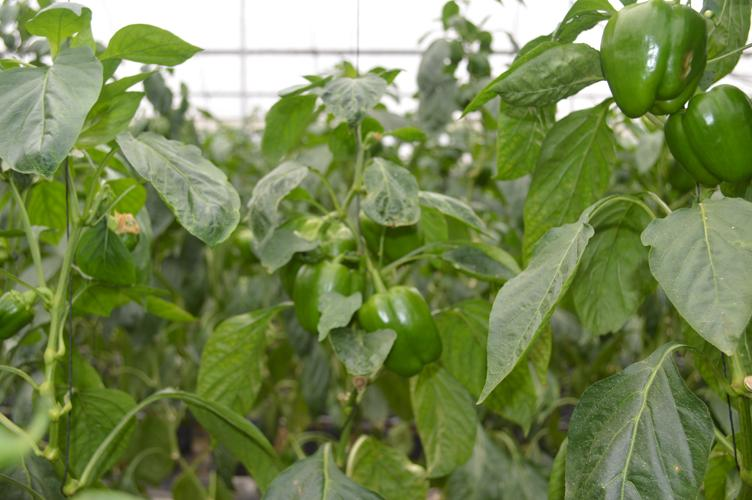BellPepper: (596, 2, 703, 113), (664, 87, 744, 186), (359, 288, 445, 372), (291, 266, 364, 330), (356, 207, 426, 258)
